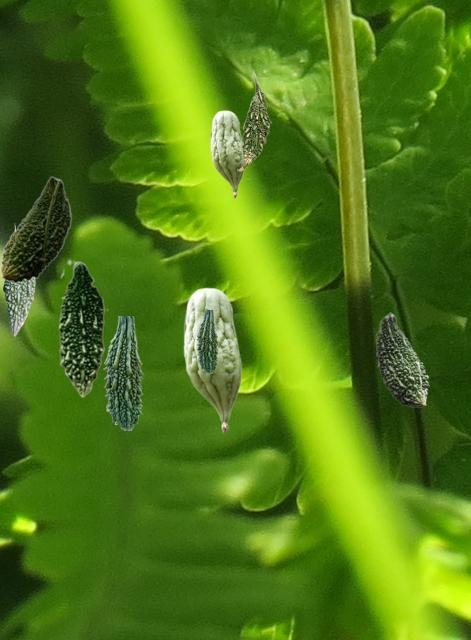ampalaya: (183, 287, 241, 432), (0, 176, 71, 282), (58, 259, 107, 397), (376, 312, 428, 406), (103, 316, 142, 429), (3, 223, 35, 336), (237, 70, 270, 170), (210, 110, 244, 197), (196, 310, 217, 372)
